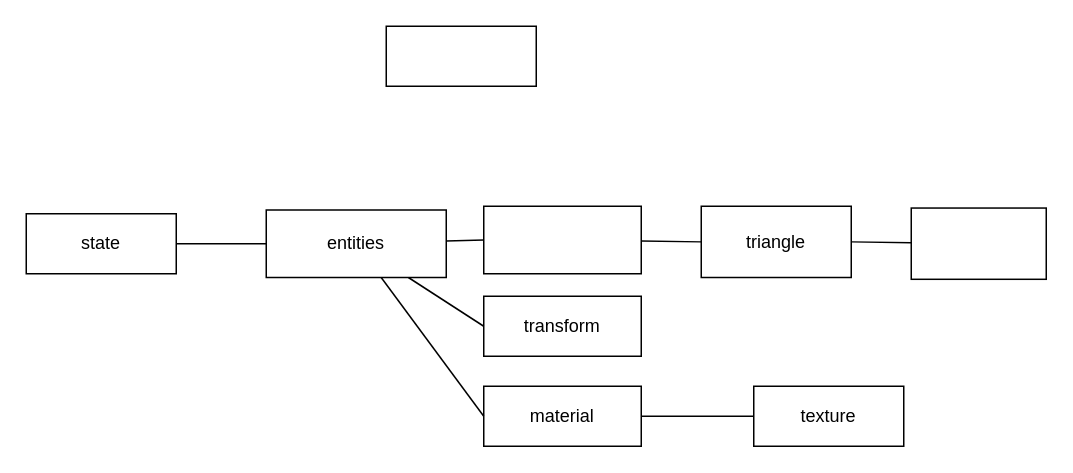
The diagram is 1073 pixels wide and 473 high, and some of its shapes have lost their labels. Here are the shapes that lost their labels. From the top down, the centre of each, then its label:
[460,55]: entity id
[561,239]: mesh
[978,243]: vertex vec4[], u, v
